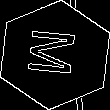M_E: (25, 30, 85, 80)
